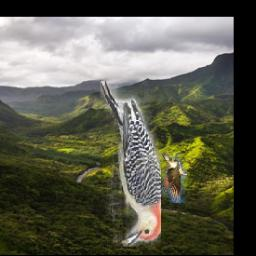Cuckoo: (146, 153, 188, 203)
Woodpecker: (101, 81, 162, 247)
